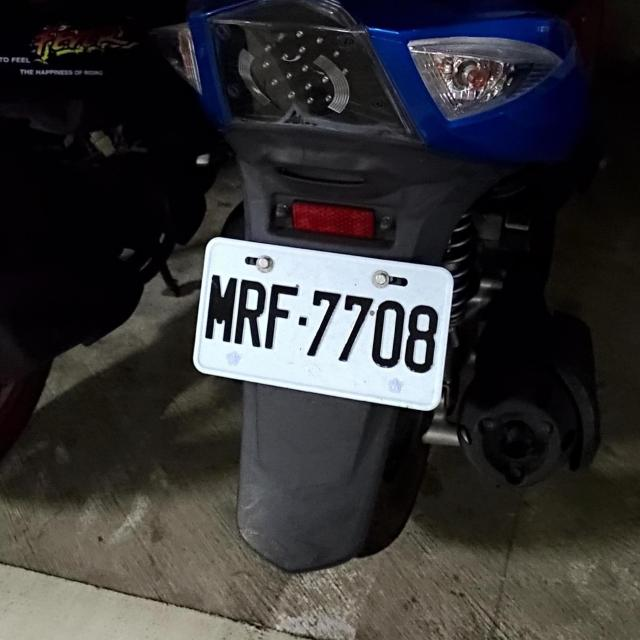W: (186, 234, 457, 408)
